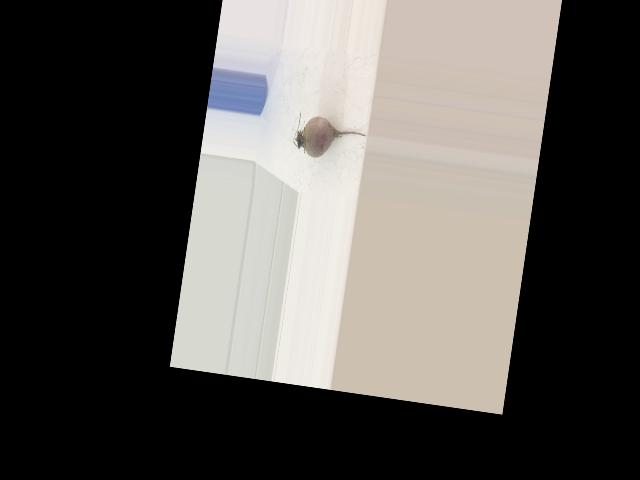beet: (291, 110, 368, 163)
